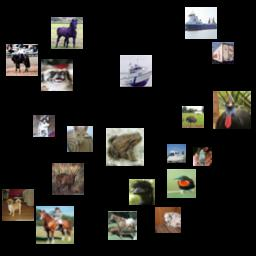bird: (213, 91, 251, 129), (167, 169, 196, 198), (129, 179, 155, 205), (182, 106, 204, 128)
cat: (67, 126, 93, 152)
deer: (52, 163, 84, 195)
dog: (41, 59, 73, 91), (2, 189, 34, 221), (155, 207, 181, 233), (33, 115, 55, 137)
frog: (106, 128, 144, 166), (193, 147, 212, 166)
ship: (185, 7, 217, 39), (120, 55, 152, 87), (167, 144, 186, 163)
truck: (212, 42, 234, 64)
